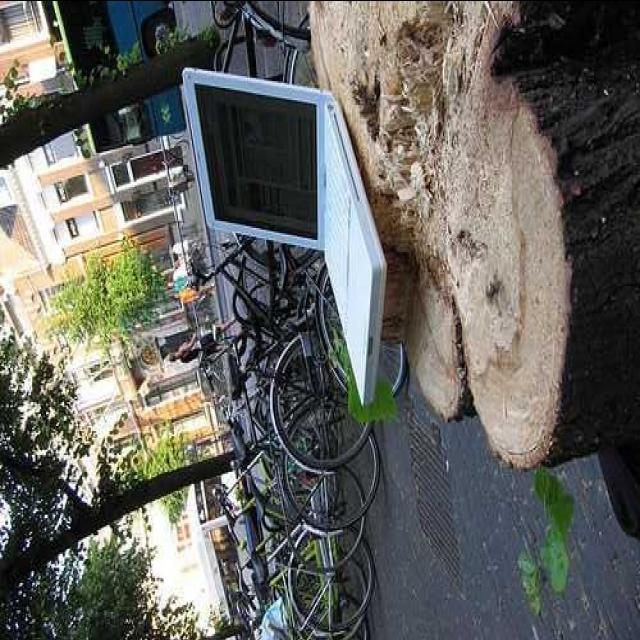laptop: (184, 69, 400, 408)
